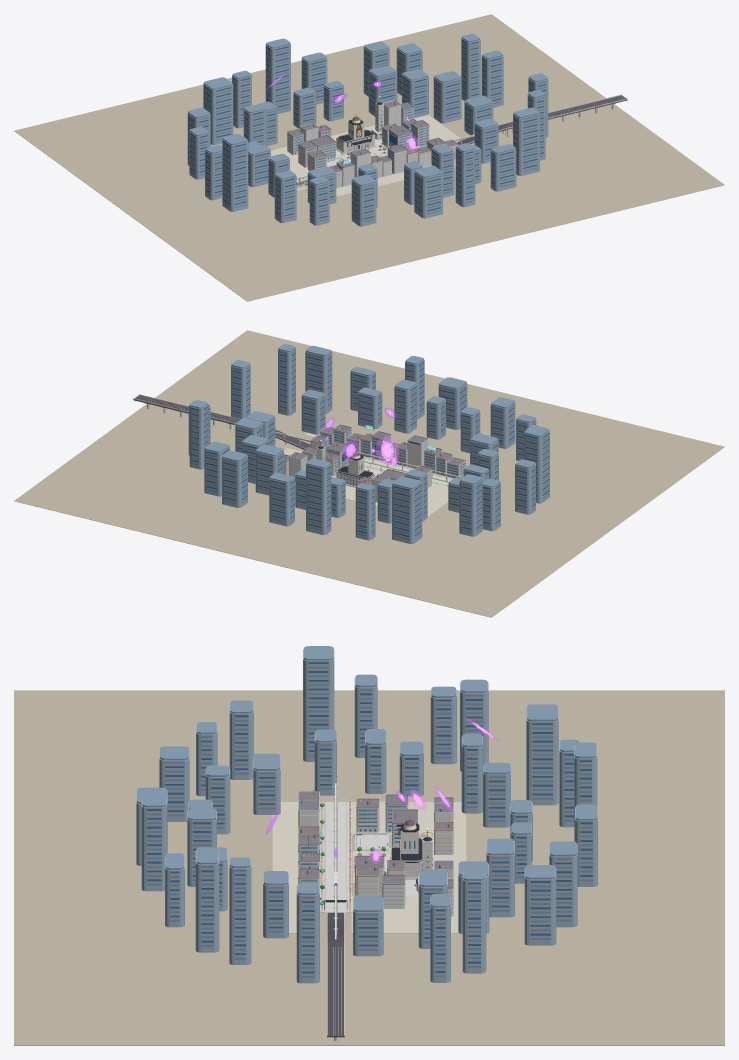
File: interlude_invasion.glb
3 views of the same model, one above another, from view 1: azimuth 30°, elevation 25°; view 2: azimuth 150°, elevation 25°; view 3: azimuth 270°, elevation 25° (orthographic). The views are drawn at different scales.
Visible parts, largest first — view 1: skyline_pave_d_fine, skyline_far_far, skyline_far_d_fine, skyline_glass_d_fine, skyline_far_d_far, north_pave, avenue_asphalt, south_roof_detail, north_roof_detail; view 2: skyline_pave_d_fine, skyline_far_far, skyline_far_d_fine, skyline_glass_d_fine, skyline_far_d_far, north_pave, avenue_asphalt, south_roof_detail, south_glass_under_detail, RIFT_05_halo, south_glass_d_fine; view 3: skyline_pave_d_fine, skyline_far_far, skyline_far_d_far, skyline_far_d_fine, skyline_glass_d_fine, north_pave, COL_avenue_064, avenue_asphalt, north_roof_detail, south_roof_detail, north_warm_d_detail.
Part boxes in pixels (x1,y1,x2,y2): skyline_pave_d_fine: (14,14,724,301); skyline_far_far: (187,37,548,226); skyline_far_d_fine: (188,43,546,222); skyline_glass_d_fine: (188,40,546,219); skyline_far_d_far: (188,33,547,185); north_pave: (271,114,459,198); avenue_asphalt: (296,95,627,188); south_roof_detail: (330,138,457,171); north_roof_detail: (288,101,428,158); skyline_pave_d_fine: (14,330,724,617); skyline_far_far: (188,347,549,544); skyline_far_d_fine: (191,350,549,539); skyline_glass_d_fine: (191,353,549,536); skyline_far_d_far: (189,344,549,491); north_pave: (284,433,466,516); avenue_asphalt: (133,395,310,449); south_roof_detail: (321,425,464,464); south_glass_under_detail: (321,429,465,474); RIFT_05_halo: (376,437,398,464); south_glass_d_fine: (321,430,465,477); skyline_pave_d_fine: (14,690,724,1045); skyline_far_far: (136,649,597,983); skyline_far_d_far: (137,646,597,911); skyline_far_d_fine: (147,666,592,977); skyline_glass_d_fine: (147,662,592,973); north_pave: (272,802,466,933); COL_avenue_064: (325,802,346,912); avenue_asphalt: (327,912,344,1037); north_roof_detail: (357,795,453,887); south_roof_detail: (298,792,318,877); north_warm_d_detail: (356,798,453,895).
Size of the model in its own units: 526 by 77.18 by 440.
